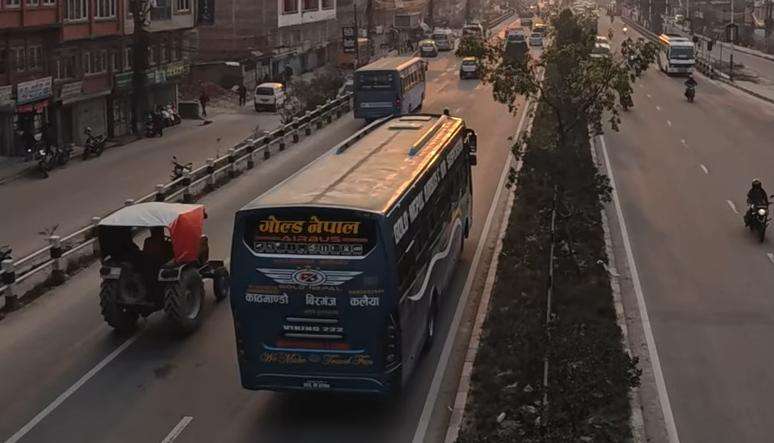bus: (223, 104, 473, 396), (348, 51, 430, 124), (651, 31, 699, 80)
tractor: (84, 196, 229, 336)
van: (253, 79, 288, 110)
